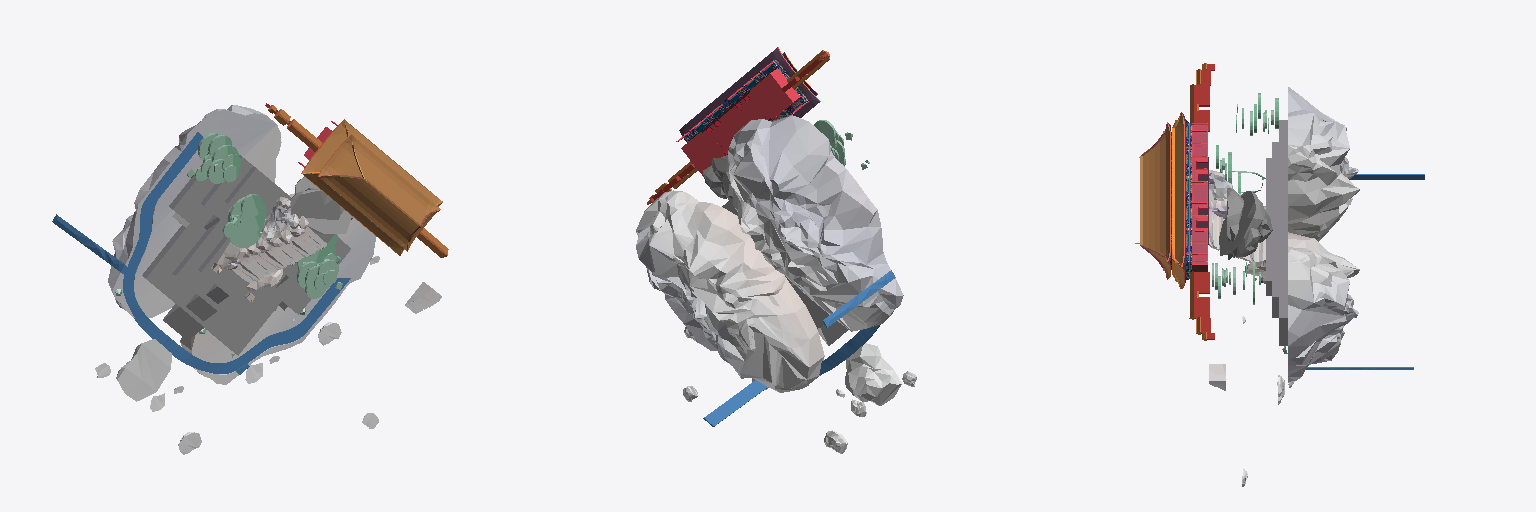
3 renders of one model, left to right at view 1: azimuth 30°, elevation 25°; view 2: azimuth 150°, elevation 25°; view 3: azimuth 270°, elevation 25°, orthographic.
Bounding box in the file's own units: 74.5 × 83.94 × 59.98.
Materials: 38 (6 with a texture image).